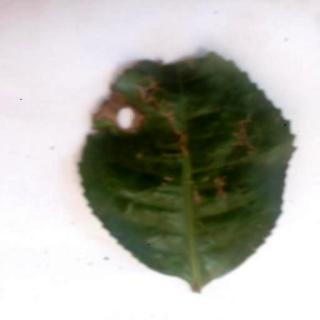Brown Blight: (77, 52, 297, 292)
